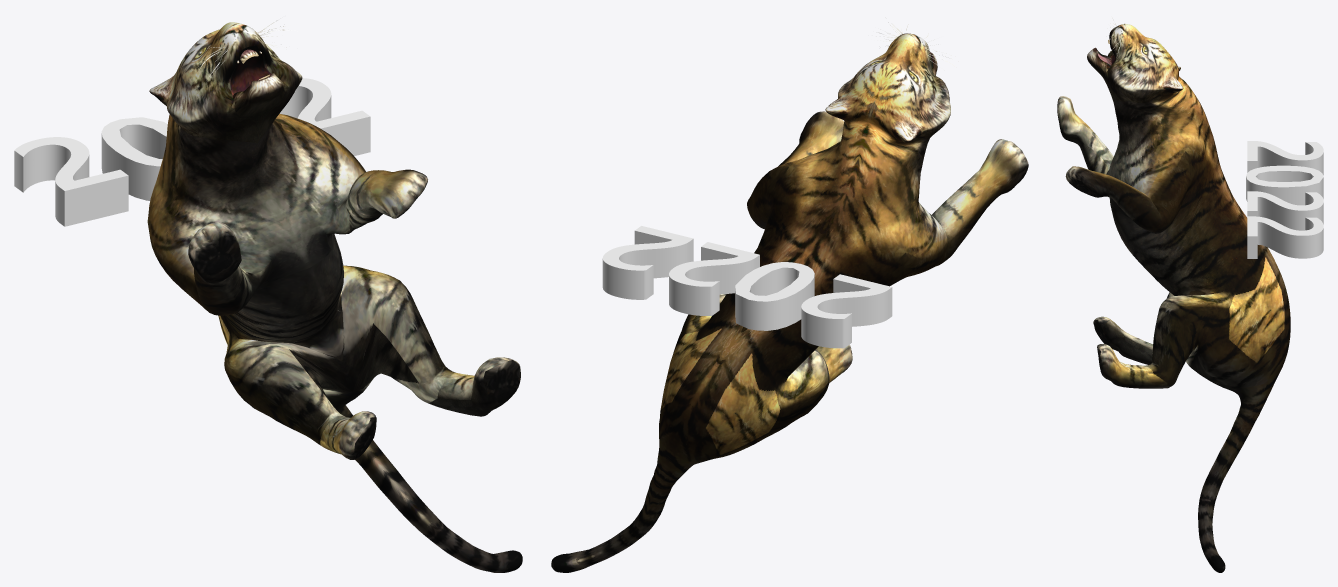
The model's file is asset7.glb.
3 renders of one model, left to right at view 1: azimuth 30°, elevation 25°; view 2: azimuth 150°, elevation 25°; view 3: azimuth 270°, elevation 25°, orthographic. The views are drawn at different scales.
Parts seen in each view (by area): view 1: D1201A12, mesh_id38.001; view 2: D1201A12, mesh_id38.001; view 3: D1201A12, mesh_id38.001.
Boxes of the visible parts, x1,y1,x2,y2 form: D1201A12: (147, 17, 522, 572); mesh_id38.001: (14, 78, 370, 226); D1201A12: (551, 17, 1028, 572); mesh_id38.001: (602, 226, 892, 348); D1201A12: (1057, 18, 1290, 572); mesh_id38.001: (1246, 141, 1323, 258).
Bounding box in the file's own units: 200 × 291 × 159.
Materials: 3 (1 with a texture image).
